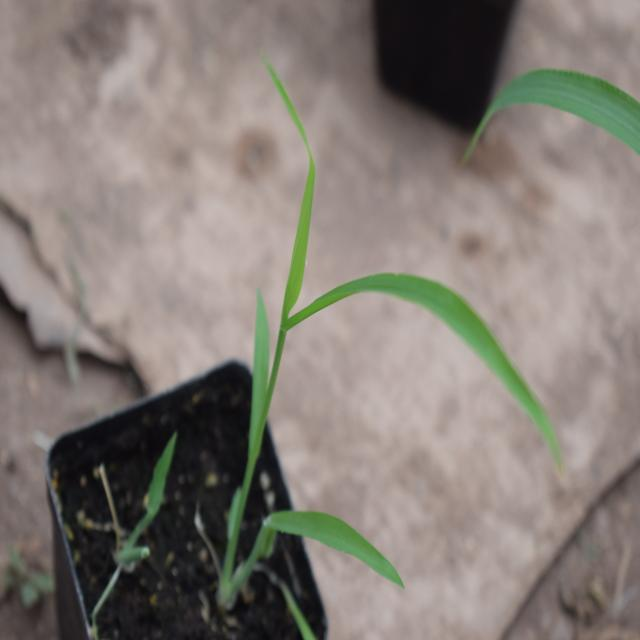crabgrass: (218, 98, 536, 612)
